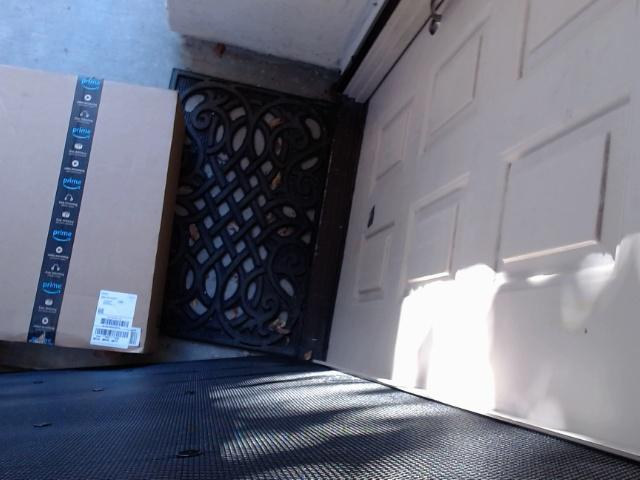box: (10, 73, 175, 357)
